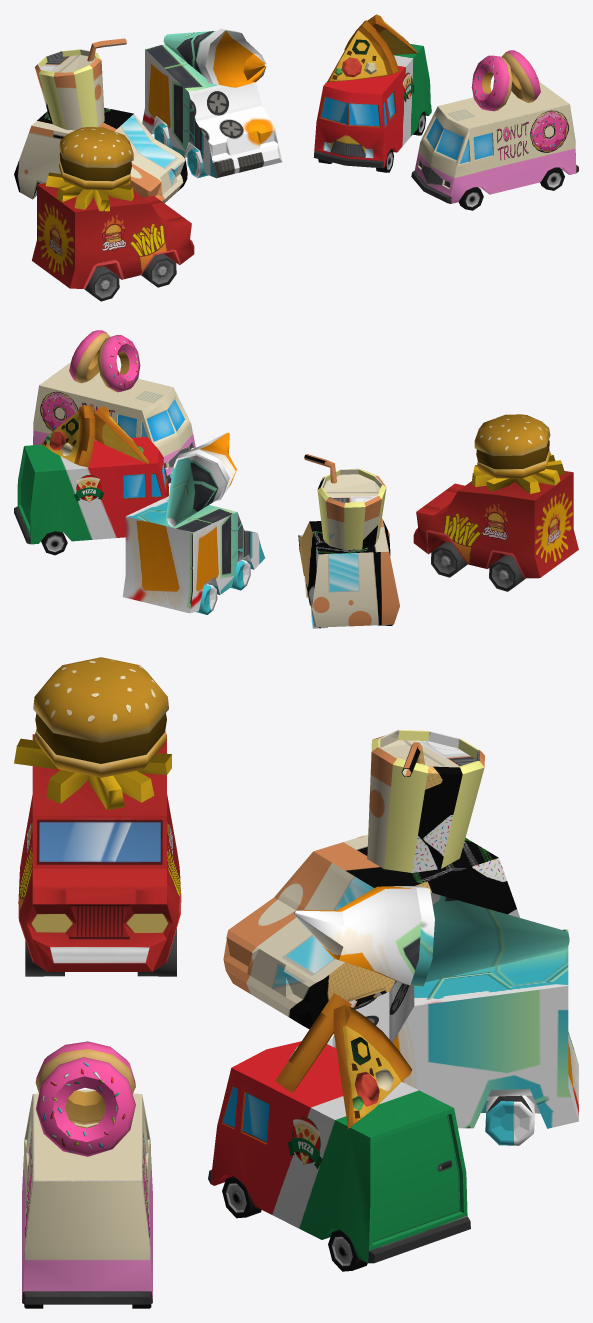
The model's file is food-trucks.fbx.
3 views of the same model, one above another, from view 1: azimuth 30°, elevation 25°; view 2: azimuth 150°, elevation 25°; view 3: azimuth 270°, elevation 25° (orthographic). The views are drawn at different scales.
Parts seen in each view (by area): view 1: TruckBurger_Material #1867_0, DonutTruck_Material #1897_0, TruckIceCream_Material #1899_0, TruckPizza_Material #1864_0, JuiceTruck_TruckJuice_0, JuiceTruck_yellow_0; view 2: TruckBurger_Material #1867_0, TruckIceCream_Material #1899_0, TruckPizza_Material #1864_0, JuiceTruck_TruckJuice_0, DonutTruck_Material #1897_0, JuiceTruck_yellow_0, TruckPizza_Material #1865_0; view 3: TruckPizza_Material #1864_0, TruckBurger_Material #1867_0, TruckIceCream_Material #1899_0, DonutTruck_Material #1897_0, JuiceTruck_TruckJuice_0, JuiceTruck_yellow_0, TruckPizza_Material #1866_0.
Part boxes in pixels (bbox=[...]): TruckBurger_Material #1867_0: bbox=[32, 127, 194, 301]; DonutTruck_Material #1897_0: bbox=[411, 50, 578, 210]; TruckIceCream_Material #1899_0: bbox=[142, 28, 282, 178]; TruckPizza_Material #1864_0: bbox=[313, 14, 431, 172]; JuiceTruck_TruckJuice_0: bbox=[14, 38, 187, 203]; JuiceTruck_yellow_0: bbox=[38, 49, 100, 129]; TruckBurger_Material #1867_0: bbox=[413, 414, 578, 591]; TruckIceCream_Material #1899_0: bbox=[122, 432, 264, 614]; TruckPizza_Material #1864_0: bbox=[14, 405, 168, 555]; JuiceTruck_TruckJuice_0: bbox=[298, 454, 399, 628]; DonutTruck_Material #1897_0: bbox=[33, 330, 195, 483]; JuiceTruck_yellow_0: bbox=[317, 468, 386, 549]; TruckPizza_Material #1865_0: bbox=[73, 475, 104, 502]; TruckPizza_Material #1864_0: bbox=[208, 993, 470, 1271]; TruckBurger_Material #1867_0: bbox=[14, 657, 181, 976]; TruckIceCream_Material #1899_0: bbox=[294, 886, 578, 1145]; DonutTruck_Material #1897_0: bbox=[22, 1041, 152, 1308]; JuiceTruck_TruckJuice_0: bbox=[223, 730, 519, 1034]; JuiceTruck_yellow_0: bbox=[367, 730, 484, 872]; TruckPizza_Material #1866_0: bbox=[287, 1117, 322, 1169].
Size of the model in its own units: 54432 by 15580 by 29888.
